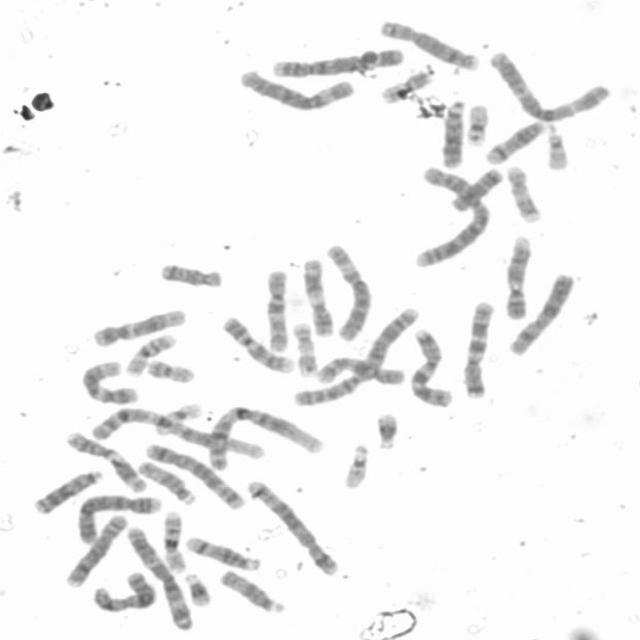A1: (84, 404, 269, 461), (201, 400, 329, 471)
A2: (289, 303, 422, 409), (407, 160, 494, 269)
A3: (484, 46, 613, 123), (120, 522, 196, 632)
B4: (72, 488, 164, 545), (265, 43, 406, 79)
B5: (243, 473, 343, 577), (140, 439, 248, 511)
C10: (311, 350, 407, 387), (259, 263, 292, 354)
C11: (60, 426, 148, 494), (298, 253, 336, 338)
C12: (86, 304, 188, 348), (76, 355, 141, 405)
C6: (235, 64, 359, 112), (320, 238, 375, 344)
C7: (406, 324, 456, 409), (458, 297, 497, 400)
C8: (375, 14, 483, 72), (60, 509, 130, 588)
C9: (218, 312, 297, 374), (499, 230, 535, 321)
D13: (28, 464, 106, 516), (437, 94, 468, 170)
D14: (480, 115, 552, 165), (181, 531, 264, 571)
D15: (215, 564, 288, 615), (133, 455, 198, 506)
E16: (120, 328, 177, 376), (158, 505, 189, 573)
E17: (502, 160, 544, 225), (288, 317, 320, 377)
E18: (445, 162, 505, 212), (155, 257, 227, 289)
F19: (150, 398, 204, 436), (461, 98, 492, 147)
F20: (380, 65, 438, 103), (141, 354, 197, 384)
G21: (180, 568, 213, 608), (370, 408, 400, 450)
G22: (338, 439, 372, 490), (542, 122, 572, 171)
X: (503, 268, 578, 357), (88, 567, 160, 614)
